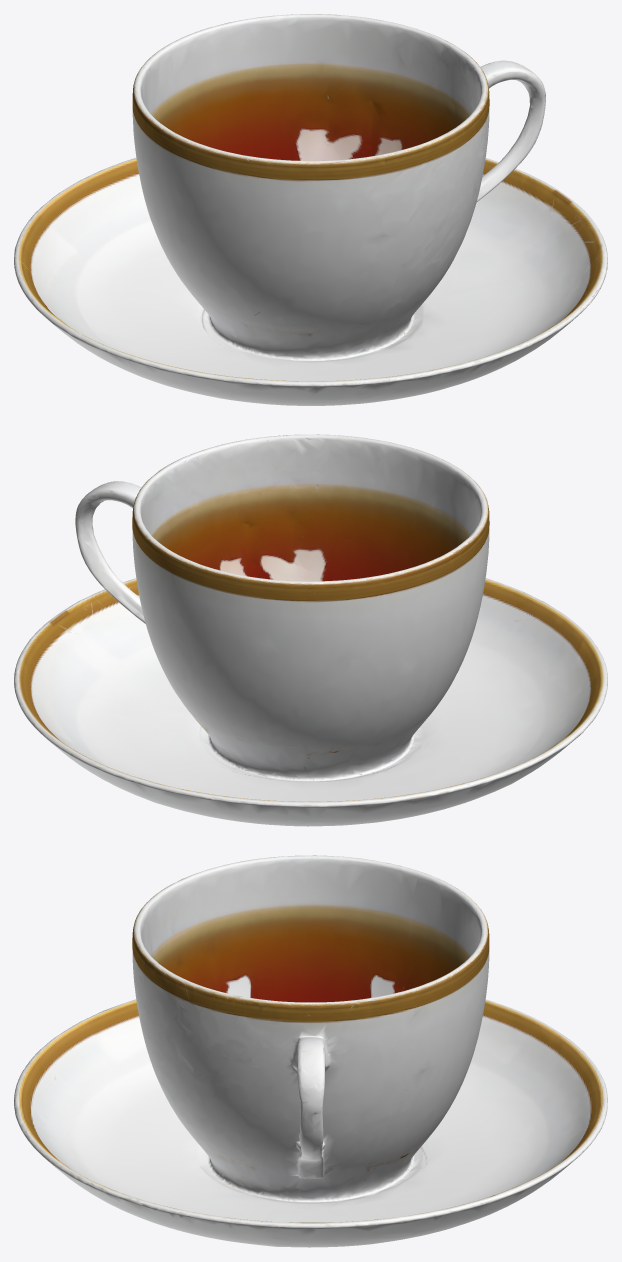
The model's file is teacup.glb.
3 views of the same model, one above another, from view 1: azimuth 30°, elevation 25°; view 2: azimuth 150°, elevation 25°; view 3: azimuth 270°, elevation 25° (orthographic).
Visible parts, largest first — view 1: Mesh_0; view 2: Mesh_0; view 3: Mesh_0.
Part boxes in pixels (box(x1,y1,x2,y2)): Mesh_0: box(14, 14, 607, 405); Mesh_0: box(14, 434, 607, 826); Mesh_0: box(14, 855, 607, 1247).
Bounding box in the file's own units: 1.91 × 0.9124 × 1.91.
Materials: 1 (1 with a texture image).
